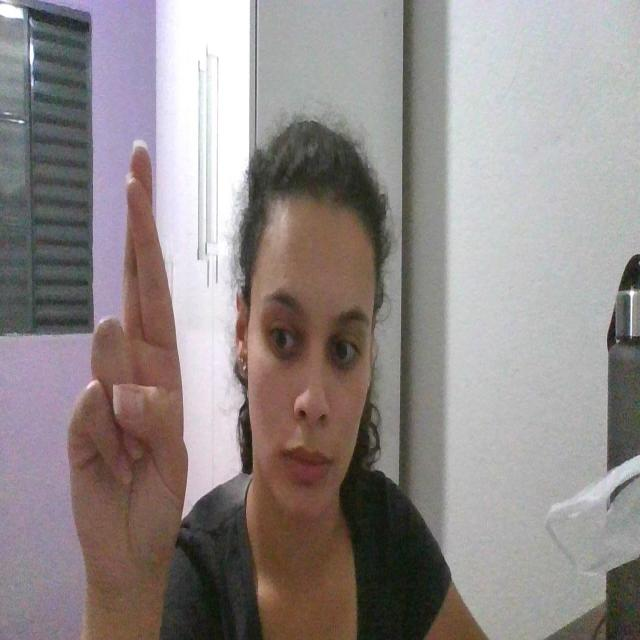R: (59, 130, 189, 576)
